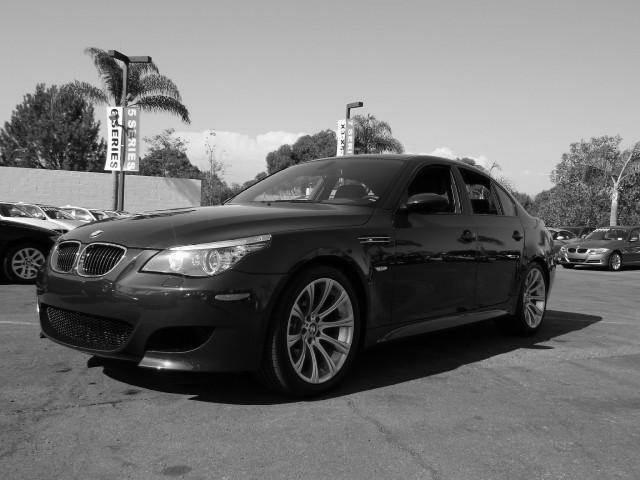car: (37, 157, 561, 402)
